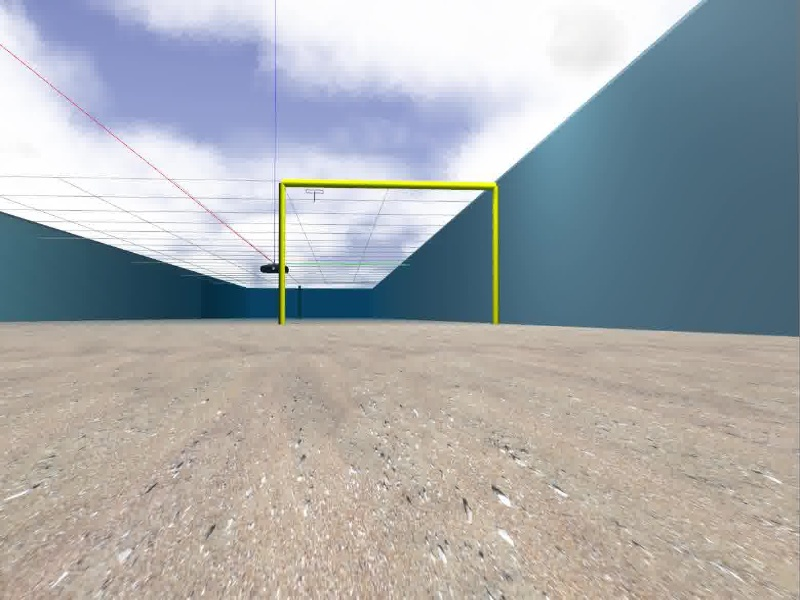gate: (278, 178, 501, 325)
